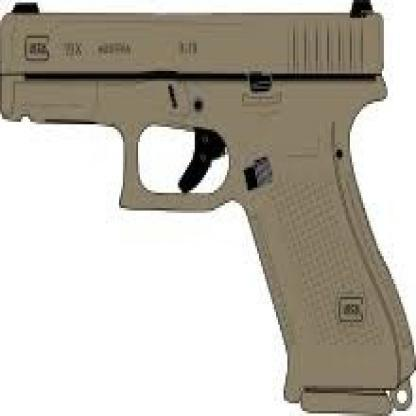Pistol: (1, 0, 416, 416)
